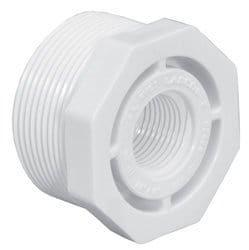PVC: (12, 10, 241, 244)
